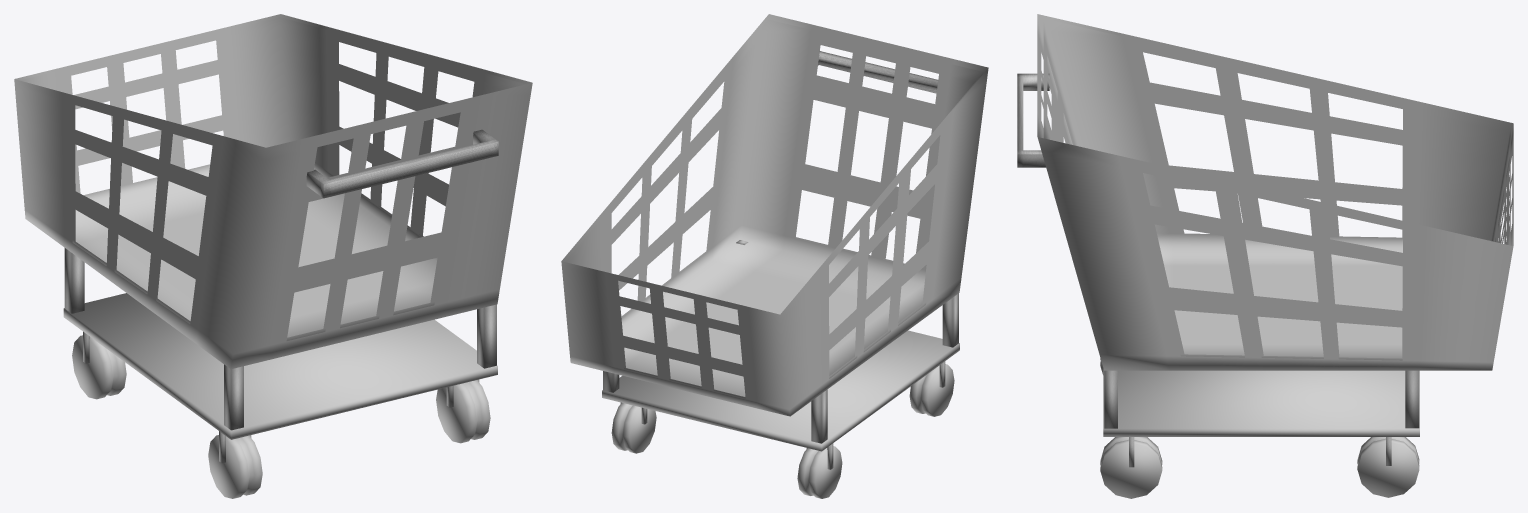
File: Cart.fbx
3 views of the same model, side by side, from view 1: azimuth 30°, elevation 25°; view 2: azimuth 150°, elevation 25°; view 3: azimuth 270°, elevation 25° (orthographic). The views are drawn at different scales.
Parts seen in each view (by area): view 1: cart, cartInside, cartBase, wheel, handle; view 2: cartInside, cart, cartBase, wheel, handle; view 3: cartInside, cart, cartBase, wheel, handle.
Boxes of the visible parts, bbox=[...] form: cart: bbox=[14, 14, 532, 369]; cartInside: bbox=[20, 17, 525, 340]; cartBase: bbox=[63, 248, 497, 439]; wheel: bbox=[72, 331, 490, 498]; handle: bbox=[306, 129, 498, 198]; cartInside: bbox=[565, 19, 983, 398]; cart: bbox=[561, 14, 988, 416]; cartBase: bbox=[602, 240, 959, 451]; wheel: bbox=[611, 361, 954, 498]; handle: bbox=[818, 51, 938, 93]; cartInside: bbox=[1043, 18, 1510, 360]; cart: bbox=[1037, 14, 1513, 370]; cartBase: bbox=[1103, 369, 1419, 436]; wheel: bbox=[1100, 358, 1419, 498]; handle: bbox=[1017, 73, 1049, 167].
Size of the model in its own units: 2.09 by 2.9 by 3.56.
